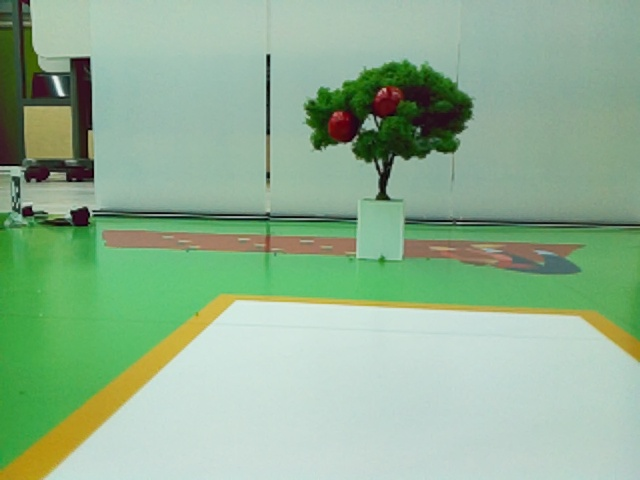apple: (374, 87, 403, 115), (328, 111, 350, 140)
